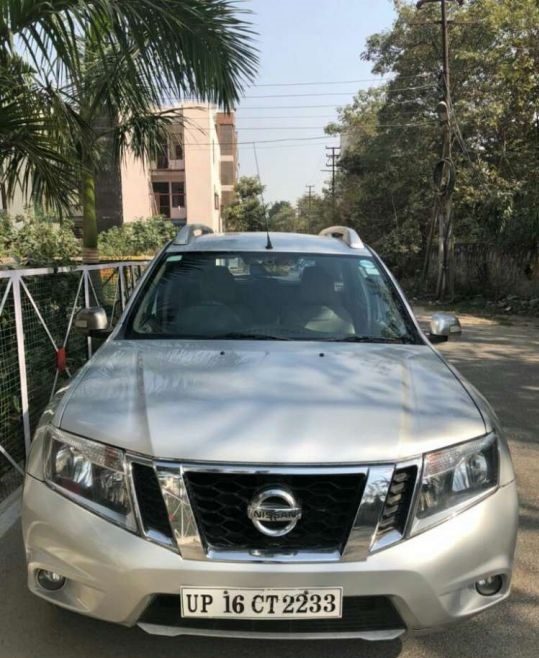UP16CT2233: (180, 586, 343, 619)
